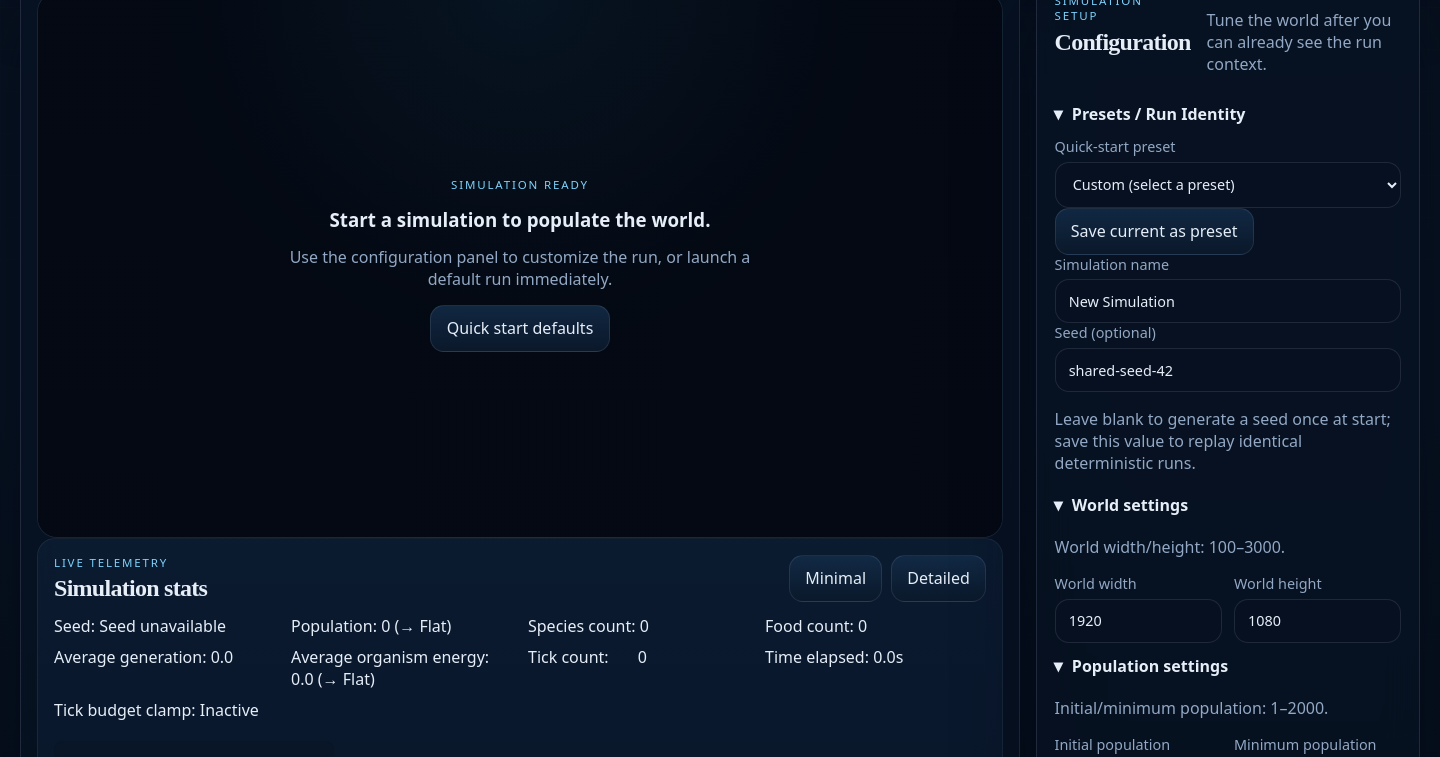
Scenario: App › realigns run to URL seed using current config when clicking use url seed
(page scrolled)
Replace the text in the field labelled "Seed (optional)" with "local-seed-99" at (1228, 370), box left=1055, top=348, right=1401, bottom=392
(page scrolled)
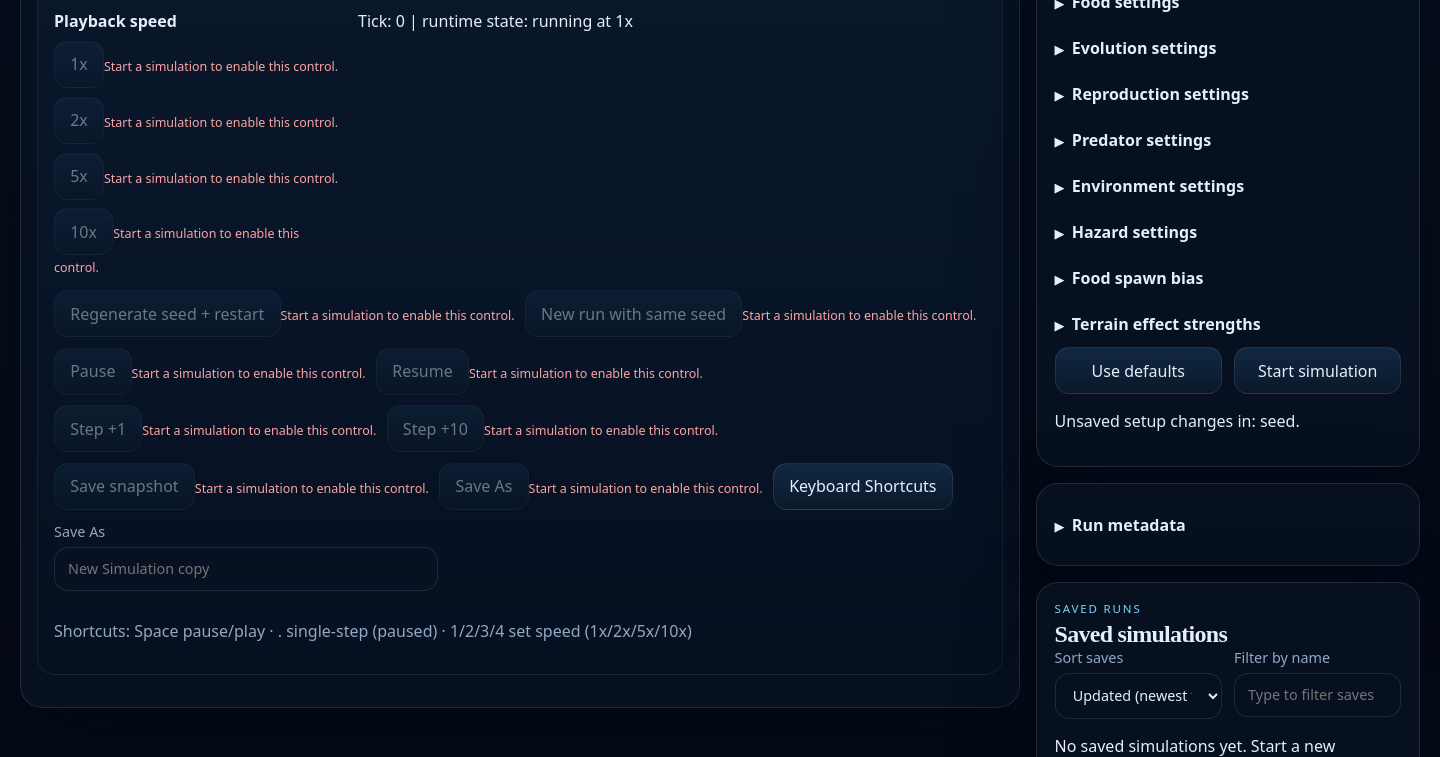
Click the button "Start simulation" at (1318, 371), box left=1234, top=347, right=1401, bottom=394
(page scrolled)
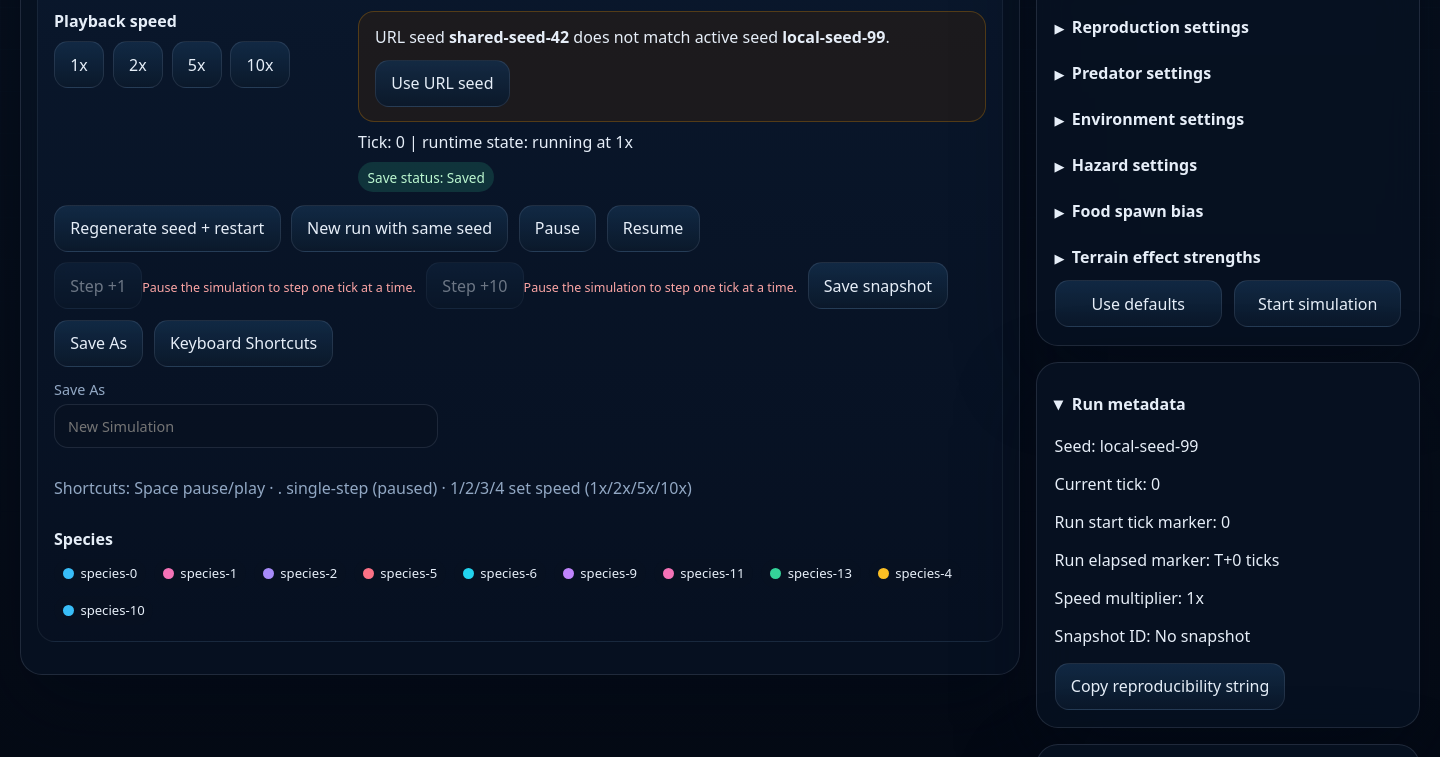
Click the button "Use URL seed" at (442, 83), box left=375, top=60, right=510, bottom=107
(page scrolled)
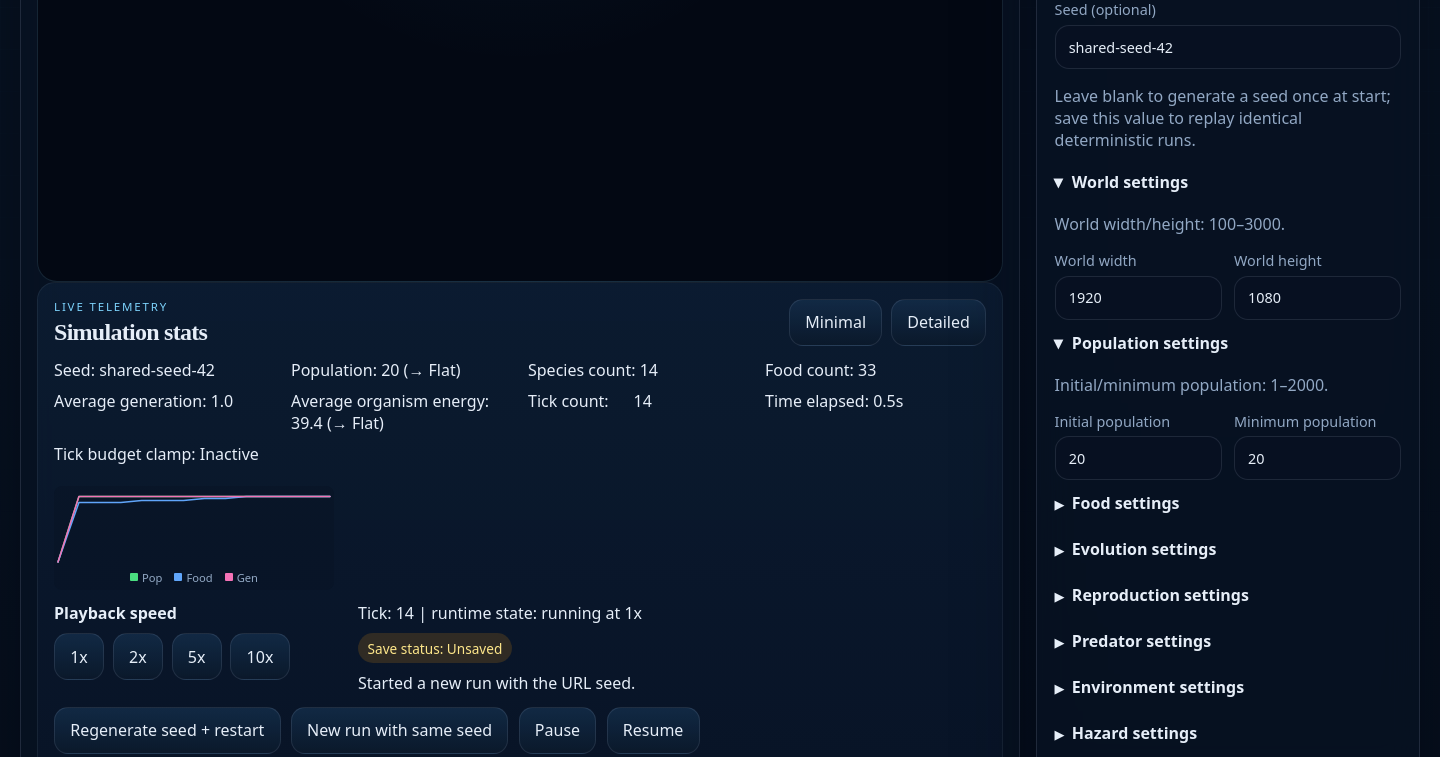
Now the text "Seed: shared-seed-42" is shown, box left=54, top=359, right=215, bottom=381
Now the button "Use URL seed" is gone
